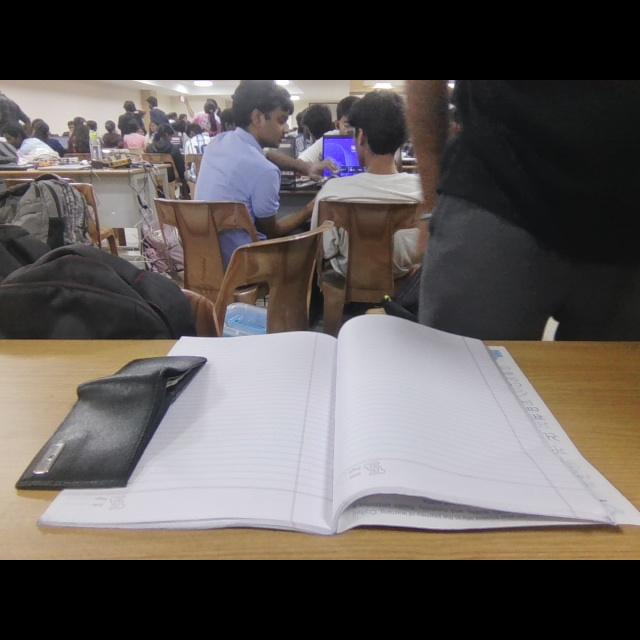wallet: (15, 346, 212, 512)
